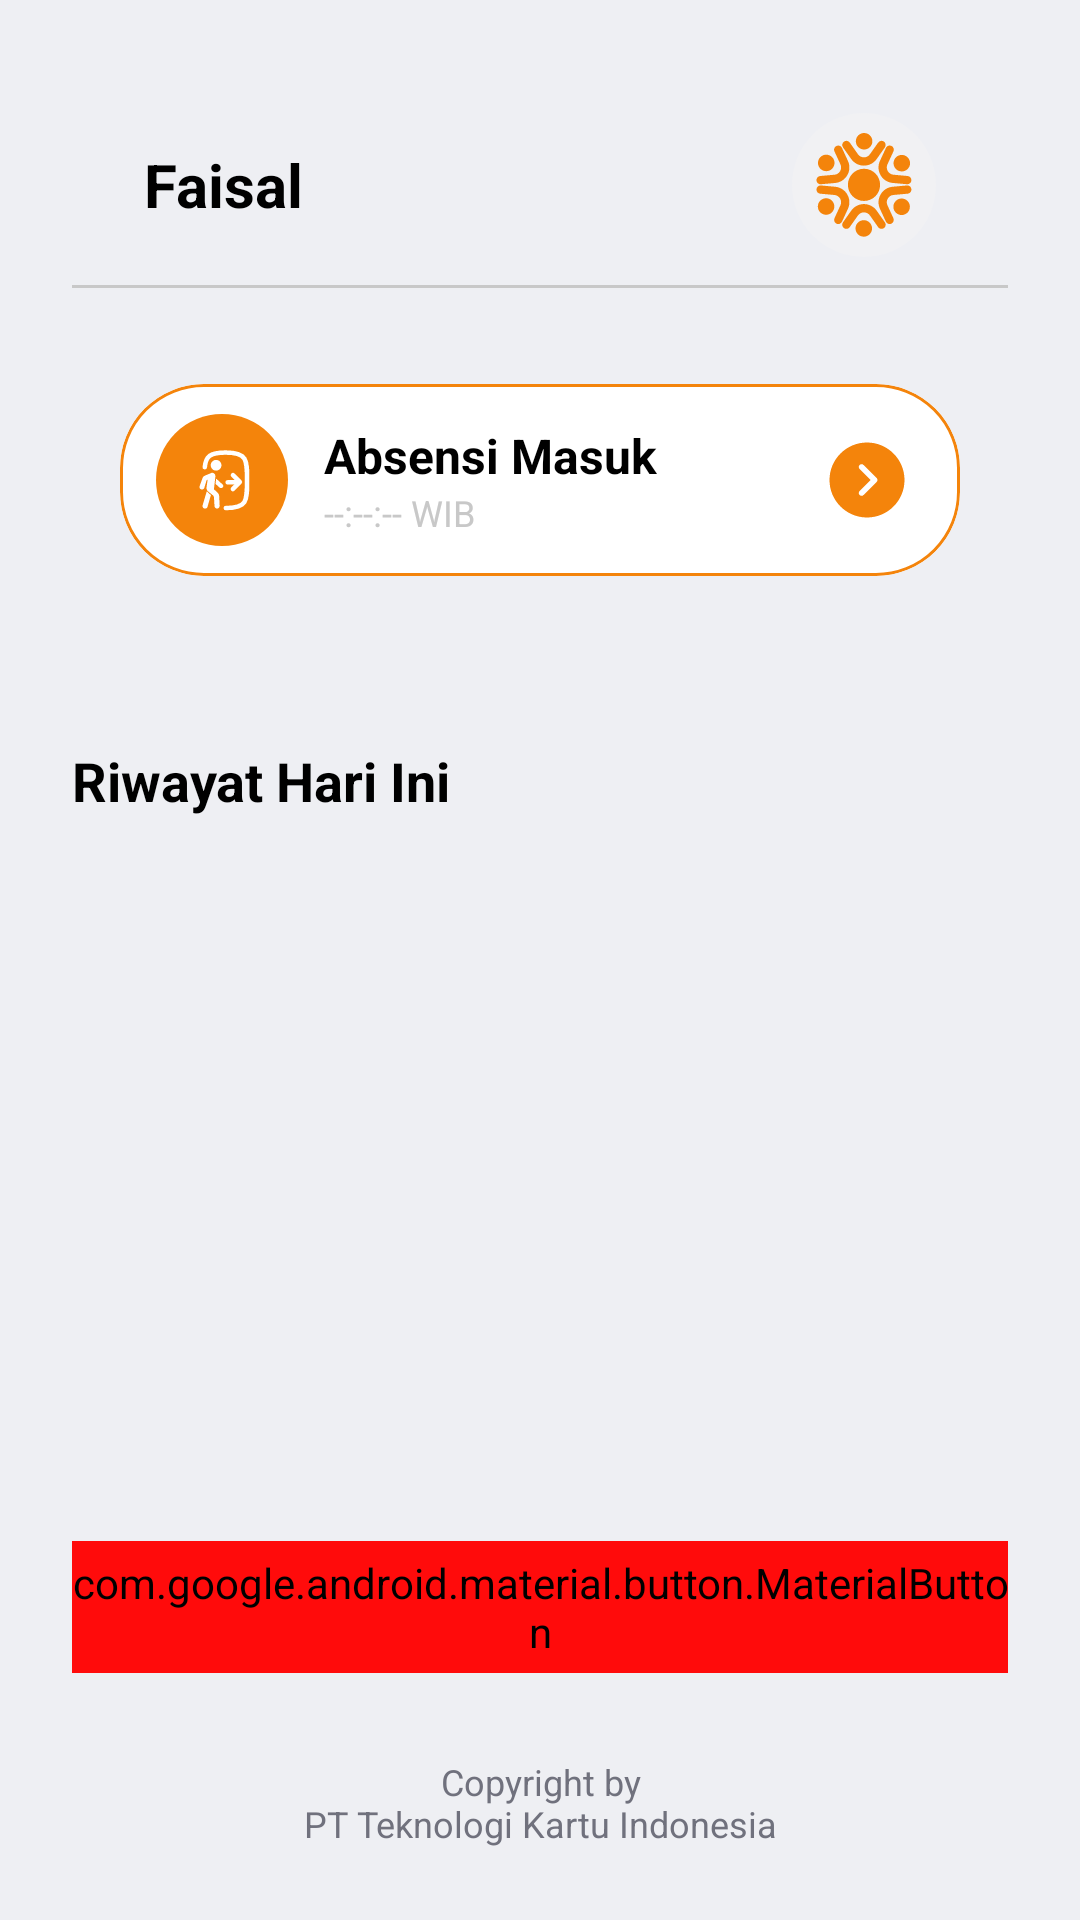

Where to tap for icons on this 1080px×1920px app screen, as point (x, y):
next: point (867, 480)
